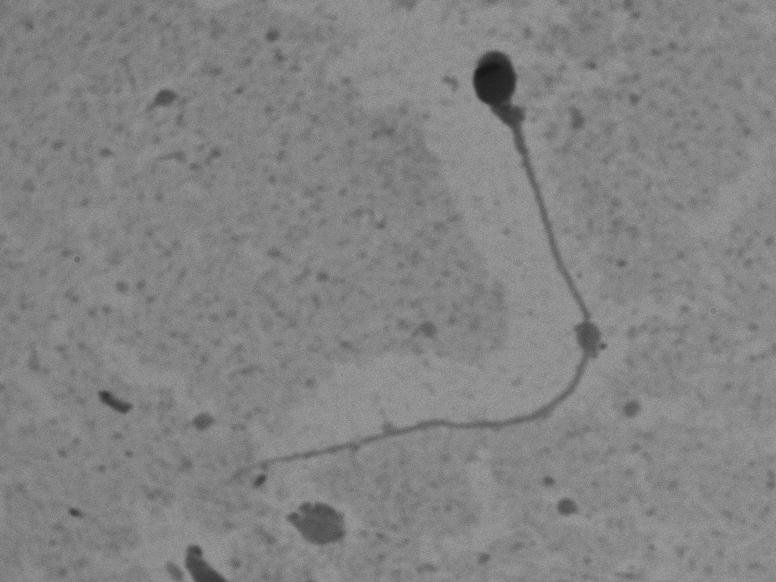Abnormal: (151, 39, 651, 502)
